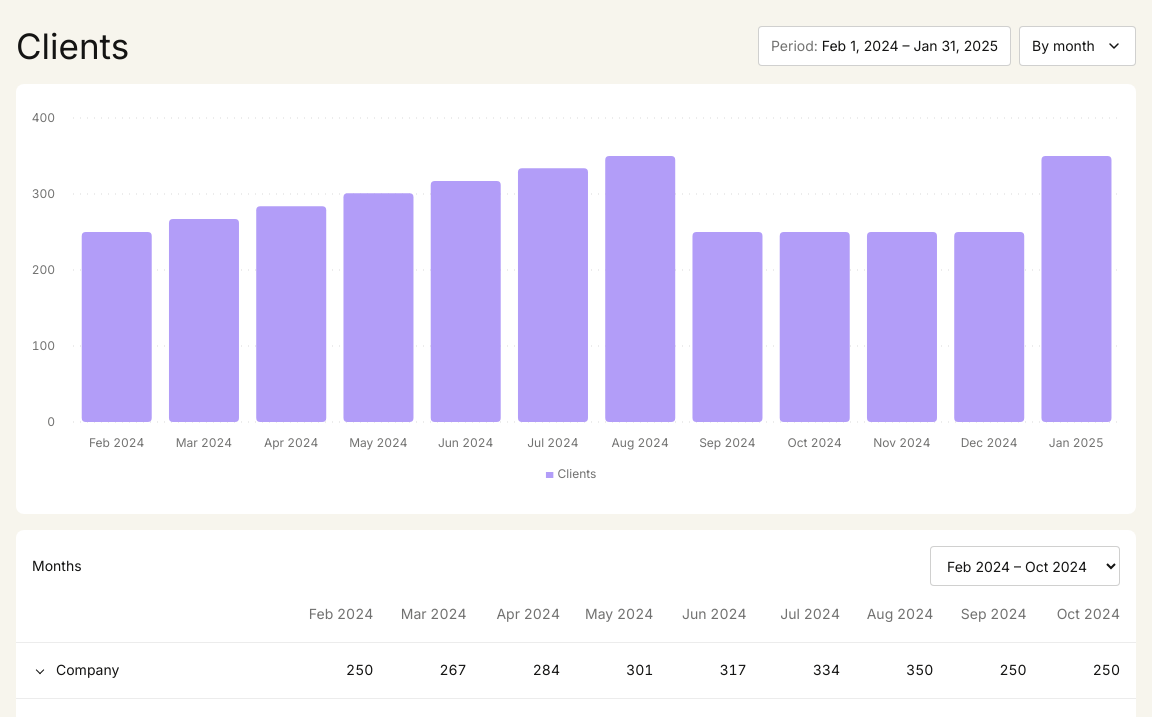
Scenario: App request states › shows an error when a selected report is unavailable
Expected: the picture named "stacked monthly client chart" is shown, [16,84,1136,514]
Select "By year" in the dropdown named "Detail" at point(1078, 46), box [1019,26,1136,66]
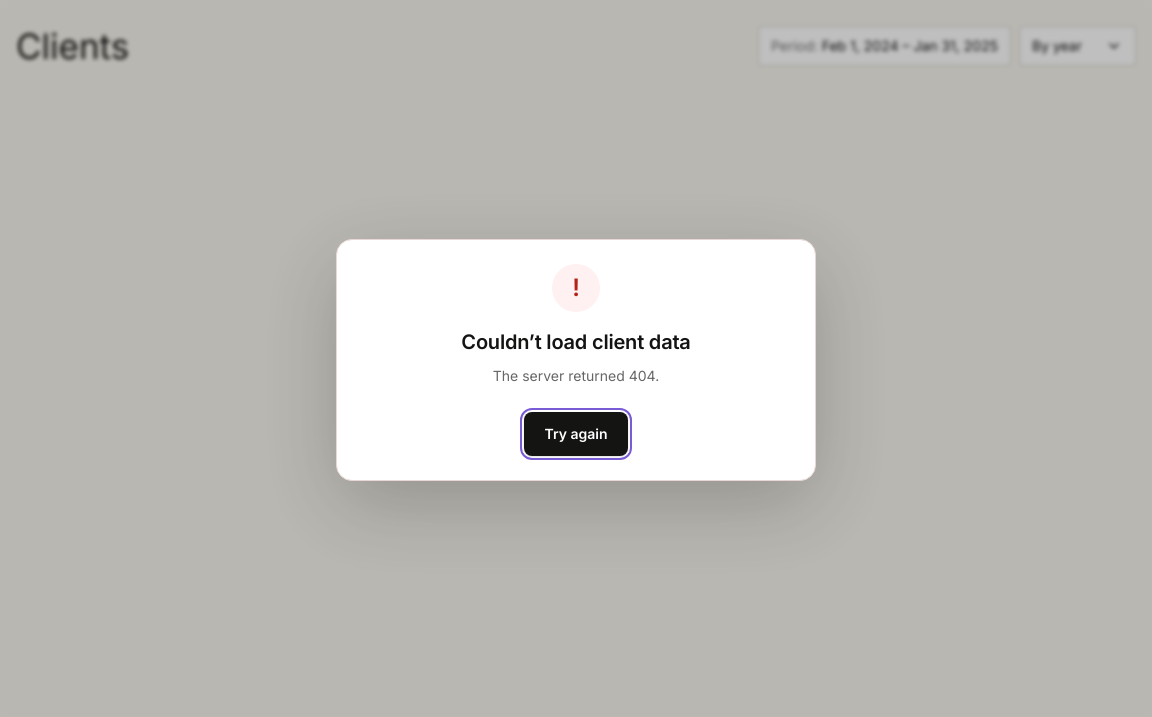
Result: the message shows "The server returned 404." at [493,367,659,384]
